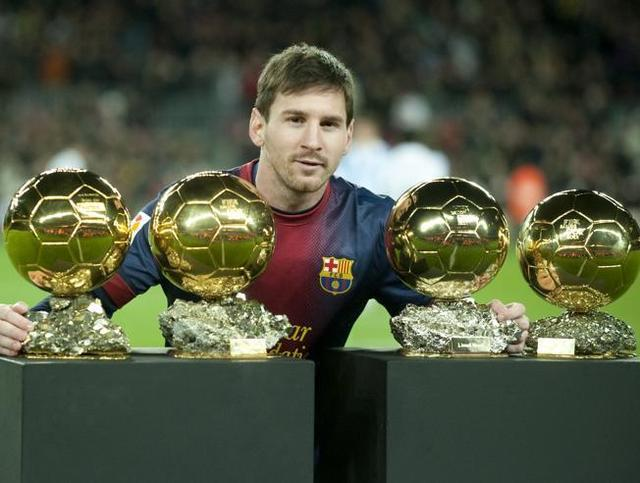football: (147, 164, 278, 302), (382, 167, 508, 302), (514, 184, 640, 316), (8, 161, 122, 295)
